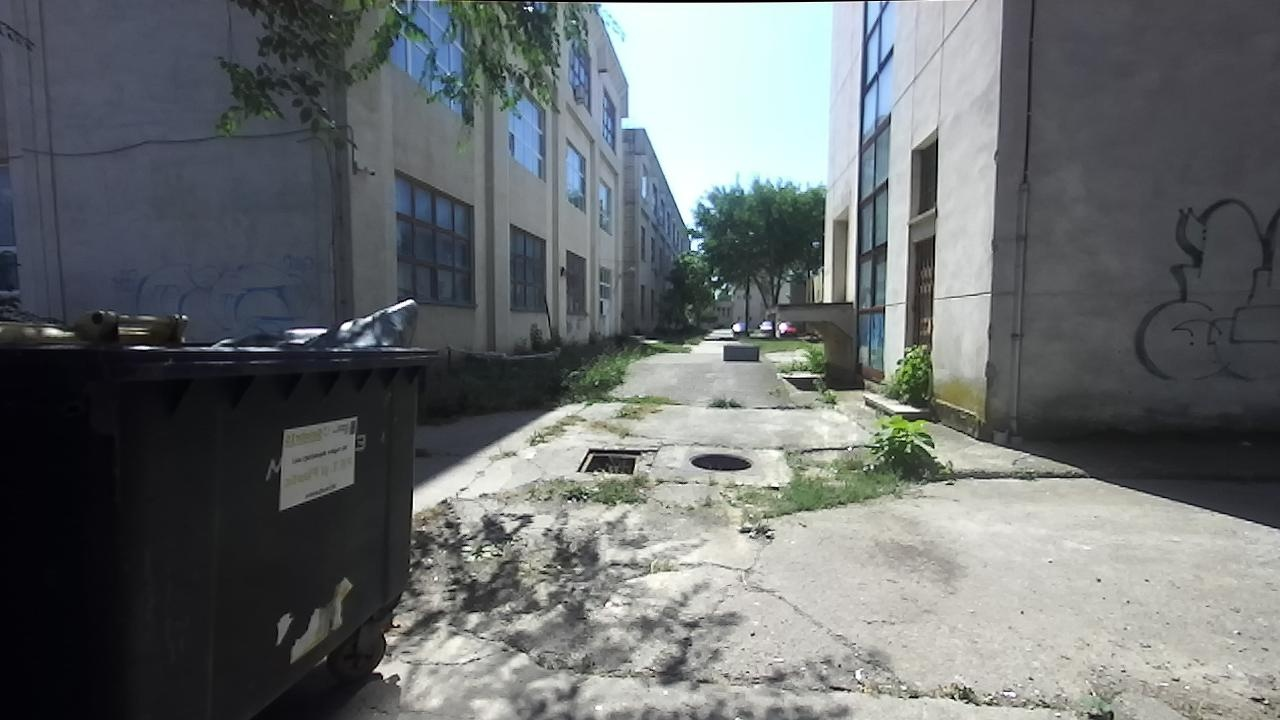drain: (566, 445, 641, 480), (682, 449, 755, 475)
